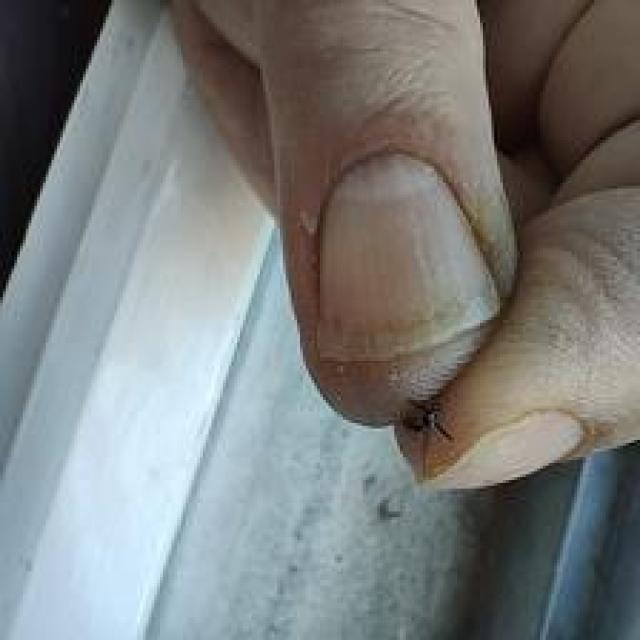Aedes albopictus: (398, 397, 456, 480)
